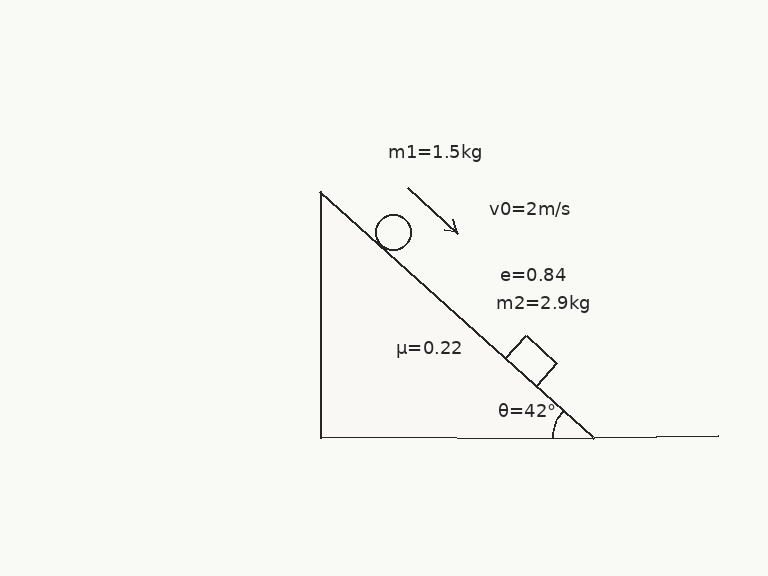ball: (373, 212, 413, 252)
block: (503, 333, 558, 387)
ramp: (318, 189, 595, 439)
